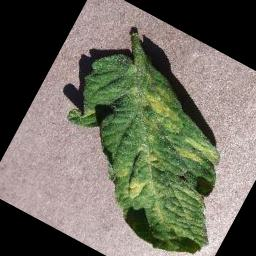Leaf_Mold: (128, 79, 193, 136), (172, 130, 224, 174), (119, 170, 150, 207)
